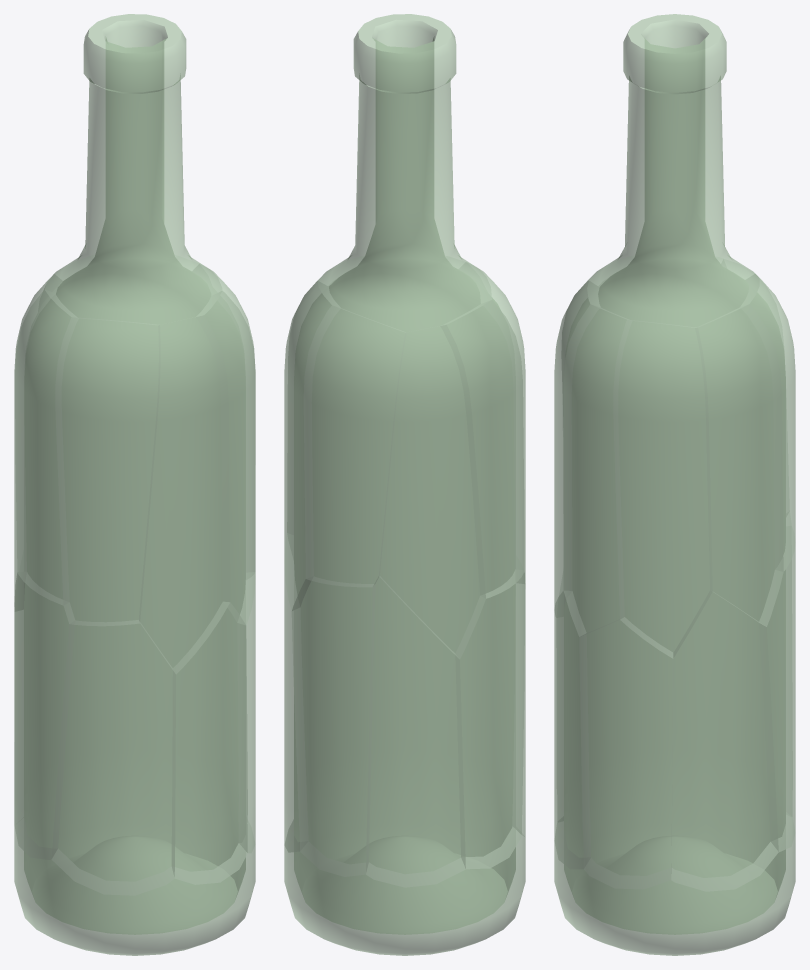
File: bottle_wine.glb
The picture shows the model from 3 angles, left to right: view 1: azimuth 30°, elevation 25°; view 2: azimuth 150°, elevation 25°; view 3: azimuth 270°, elevation 25°; orthographic projection.
Parts seen in each view (by area): view 1: intact, frag_00, frag_14, frag_02, frag_08, frag_16, frag_15, frag_03, frag_10, frag_06, frag_13, frag_07 (+2 smaller); view 2: intact, frag_00, frag_07, frag_11, frag_01, frag_09, frag_16, frag_10, frag_03, frag_04, frag_12, frag_02 (+2 smaller); view 3: intact, frag_00, frag_05, frag_12, frag_13, frag_04, frag_16, frag_06, frag_15, frag_09, frag_01, frag_08 (+4 smaller).
Part boxes in pixels (left/top/right/bottom): intact: left=14, top=14, right=255, bottom=955; frag_00: left=45, top=14, right=221, bottom=324; frag_14: left=52, top=620, right=175, bottom=895; frag_02: left=55, top=317, right=160, bottom=625; frag_08: left=139, top=315, right=229, bottom=673; frag_16: left=14, top=818, right=255, bottom=955; frag_15: left=172, top=602, right=247, bottom=884; frag_03: left=15, top=289, right=77, bottom=604; frag_10: left=14, top=572, right=74, bottom=859; frag_06: left=196, top=291, right=255, bottom=624; frag_13: left=237, top=572, right=255, bottom=852; frag_07: left=14, top=274, right=62, bottom=611; intact: left=284, top=14, right=525, bottom=955; frag_00: left=318, top=14, right=491, bottom=332; frag_07: left=379, top=325, right=485, bottom=658; frag_11: left=366, top=576, right=465, bottom=887; frag_01: left=304, top=305, right=405, bottom=586; frag_09: left=292, top=577, right=374, bottom=876; frag_16: left=284, top=820, right=525, bottom=955; frag_10: left=456, top=570, right=524, bottom=868; frag_03: left=441, top=300, right=524, bottom=598; frag_04: left=284, top=281, right=339, bottom=610; frag_12: left=284, top=533, right=307, bottom=852; frag_02: left=459, top=262, right=525, bottom=583; intact: left=554, top=14, right=795, bottom=955; frag_00: left=587, top=14, right=759, bottom=327; frag_05: left=613, top=320, right=712, bottom=658; frag_12: left=671, top=591, right=778, bottom=891; frag_13: left=579, top=617, right=672, bottom=888; frag_04: left=695, top=304, right=783, bottom=626; frag_16: left=554, top=812, right=795, bottom=955; frag_06: left=563, top=304, right=631, bottom=636; frag_15: left=554, top=591, right=590, bottom=868; frag_09: left=759, top=526, right=795, bottom=851; frag_01: left=741, top=274, right=795, bottom=571; frag_08: left=554, top=281, right=599, bottom=617.
Size of the model in its own units: 0.0745 by 0.3 by 0.0745.
